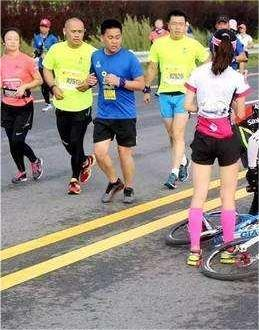up: (181, 25, 252, 269), (84, 20, 149, 208), (141, 10, 204, 200), (45, 14, 103, 201), (1, 22, 52, 191), (29, 16, 64, 116)
